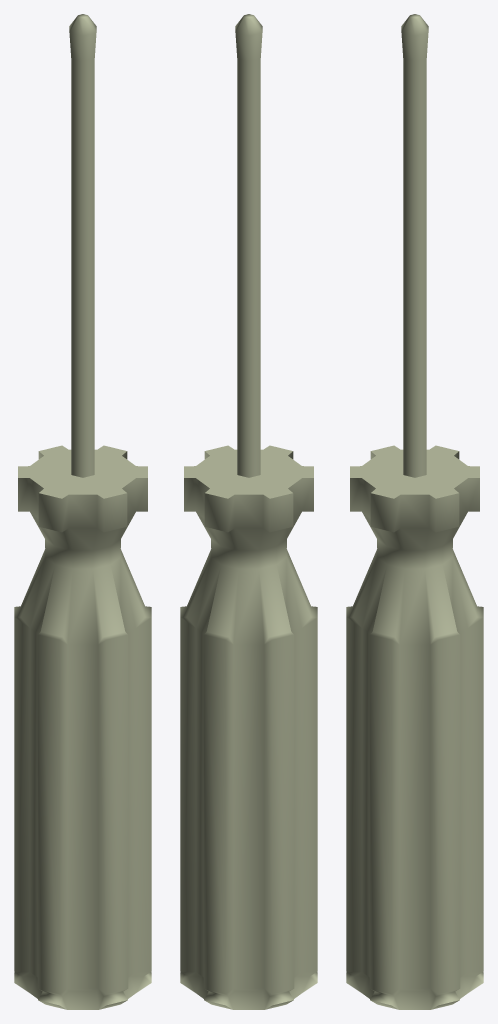
The model's file is SM_ScrewDriver_01a.FBX.
The picture shows the model from 3 angles, left to right: view 1: azimuth 30°, elevation 25°; view 2: azimuth 210°, elevation 25°; view 3: azimuth 330°, elevation 25°; orthographic projection.
Visible parts, largest first — view 1: SM_ScrewDriver_01a_LOD0; view 2: SM_ScrewDriver_01a_LOD0; view 3: SM_ScrewDriver_01a_LOD0.
Part boxes in pixels (x1,y1,x2,y2): SM_ScrewDriver_01a_LOD0: [14, 14, 151, 1009]; SM_ScrewDriver_01a_LOD0: [180, 14, 317, 1009]; SM_ScrewDriver_01a_LOD0: [346, 14, 483, 1009].
Size of what is drawn, in the model's own units: 2.58 by 21.28 by 2.7.
